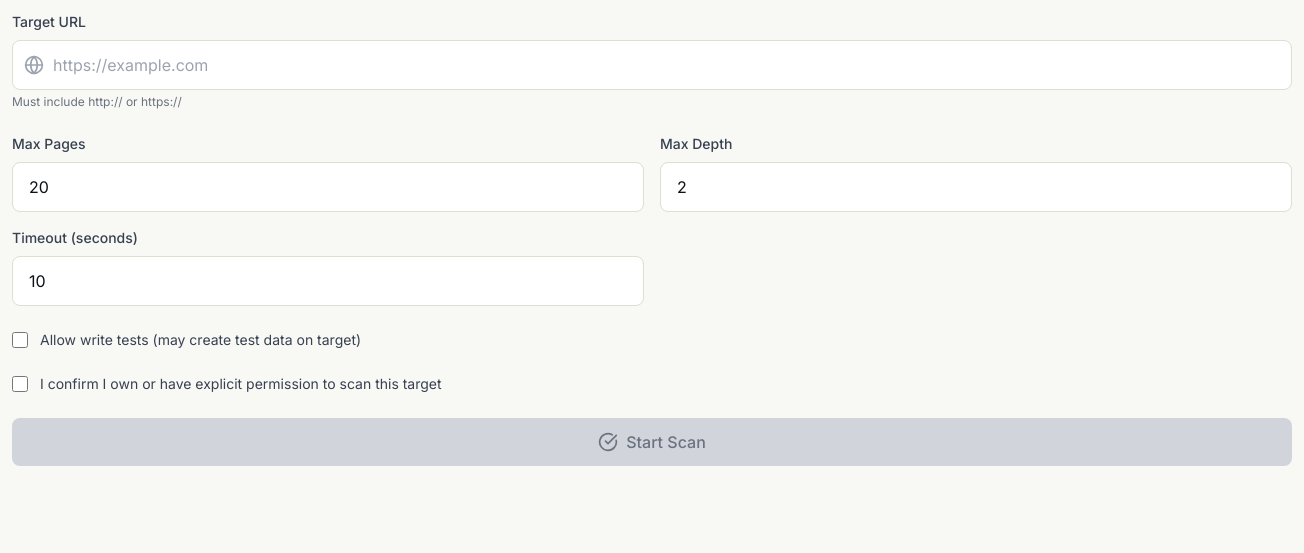
it: ScanWizard › shows error message on submission failure
Type "https://invalid.com" into the field labelled "Target URL" at (652, 65), box [12,40,1292,90]
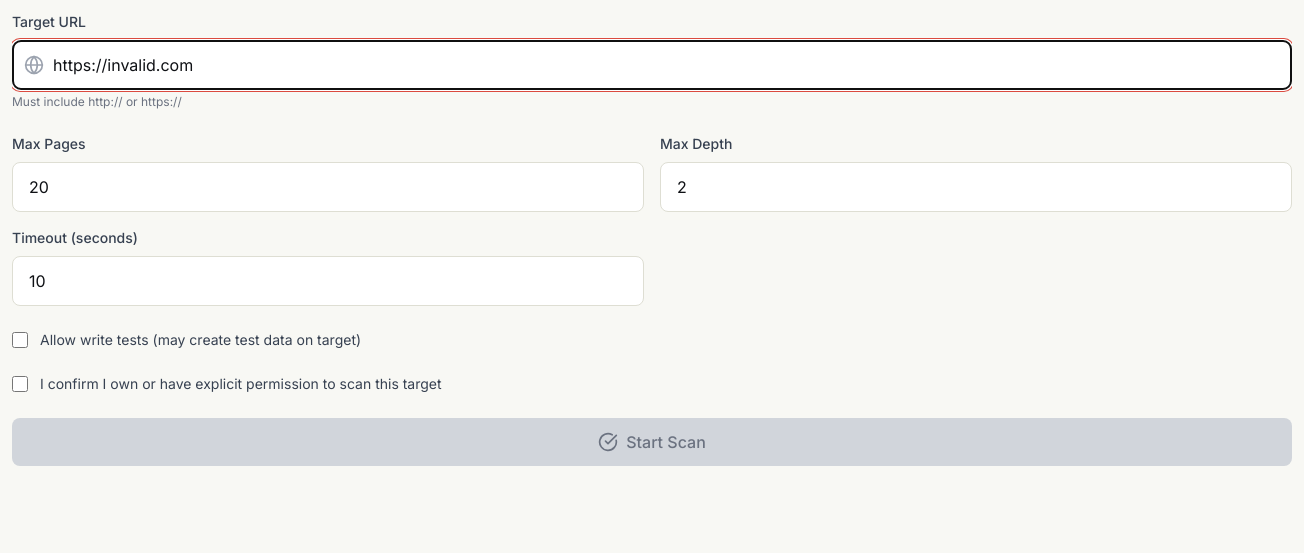
Click the checkbox labelled "I confirm I own or have explicit permission" at (20, 384), box [12,376,28,392]
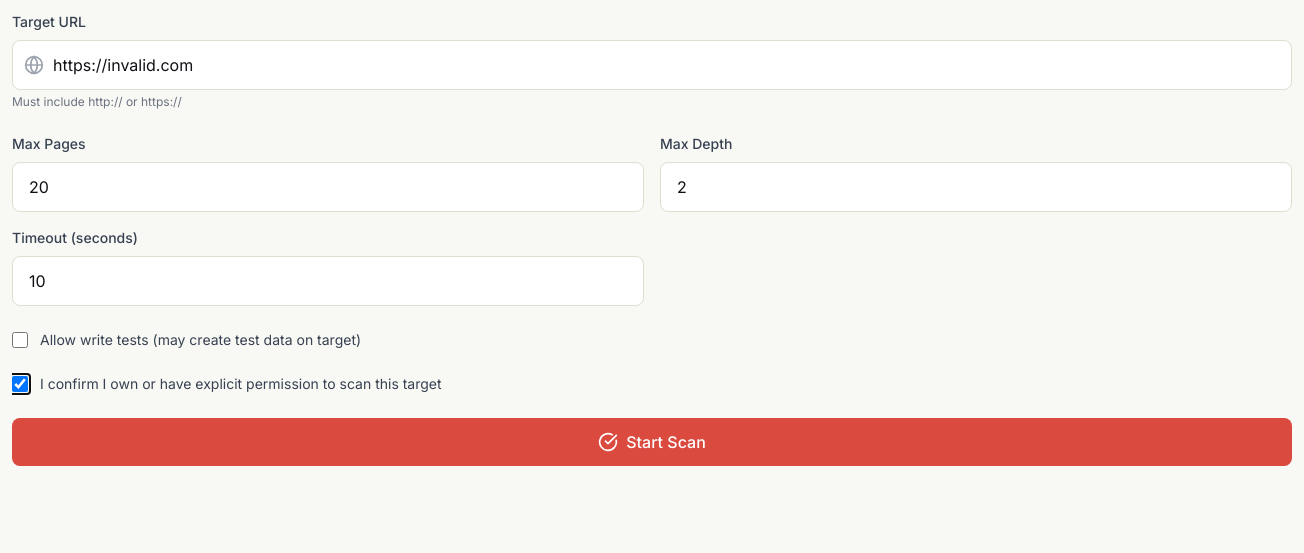
Click the button "Start Scan" at (652, 442), box [12,418,1292,466]
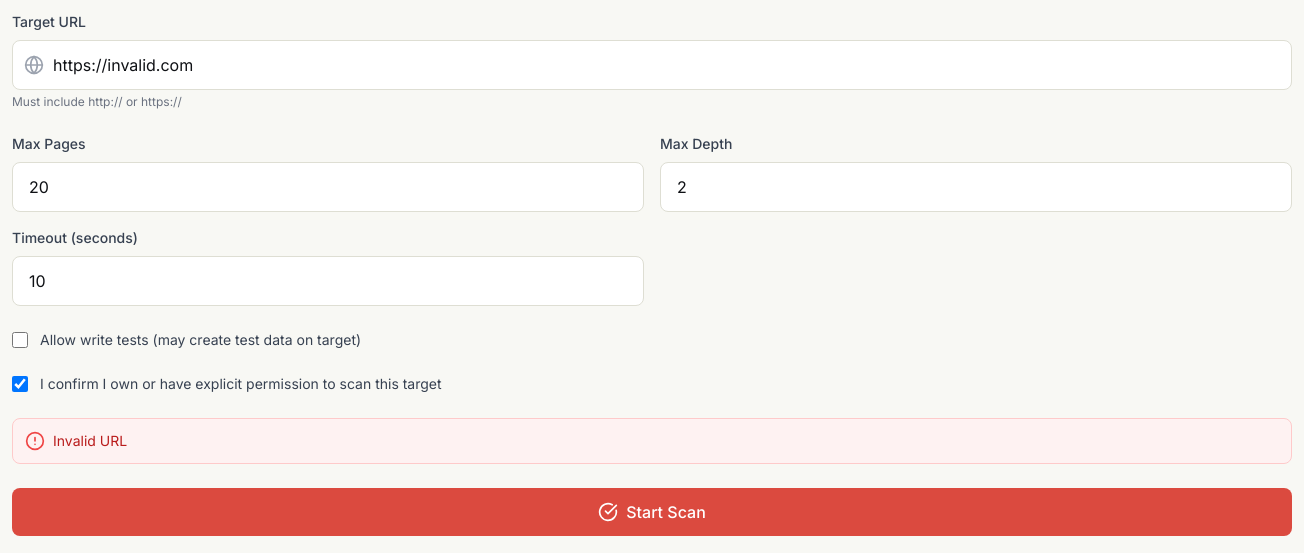
Now the text "Invalid URL" is shown, box [53,431,127,451]
